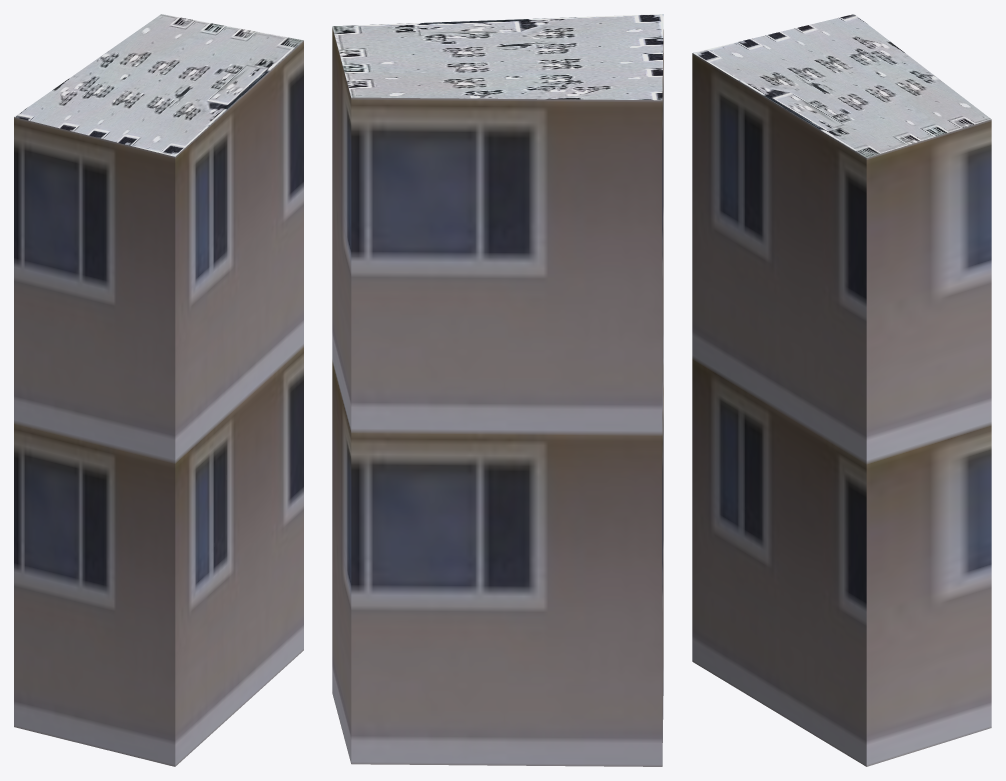
Rendered from ResTex__2797.fbx.
3 renders of one model, left to right at view 1: azimuth 30°, elevation 25°; view 2: azimuth 150°, elevation 25°; view 3: azimuth 270°, elevation 25°, orthographic. The views are drawn at different scales.
Parts seen in each view (by area): view 1: CityEngineMaterial_21_m, CityEngineMaterial_4_m; view 2: CityEngineMaterial_21_m, CityEngineMaterial_4_m; view 3: CityEngineMaterial_21_m, CityEngineMaterial_4_m.
Boxes of the visible parts, x1=… form: CityEngineMaterial_21_m: x1=14, y1=40, x2=303, y2=766; CityEngineMaterial_4_m: x1=14, y1=14, x2=303, y2=156; CityEngineMaterial_21_m: x1=332, y1=27, x2=663, y2=766; CityEngineMaterial_4_m: x1=332, y1=14, x2=663, y2=100; CityEngineMaterial_21_m: x1=692, y1=53, x2=991, y2=766; CityEngineMaterial_4_m: x1=693, y1=14, x2=990, y2=157.
Size of the model in its own units: 3.05 by 6 by 2.67.
Materials: 2 (2 with a texture image).
